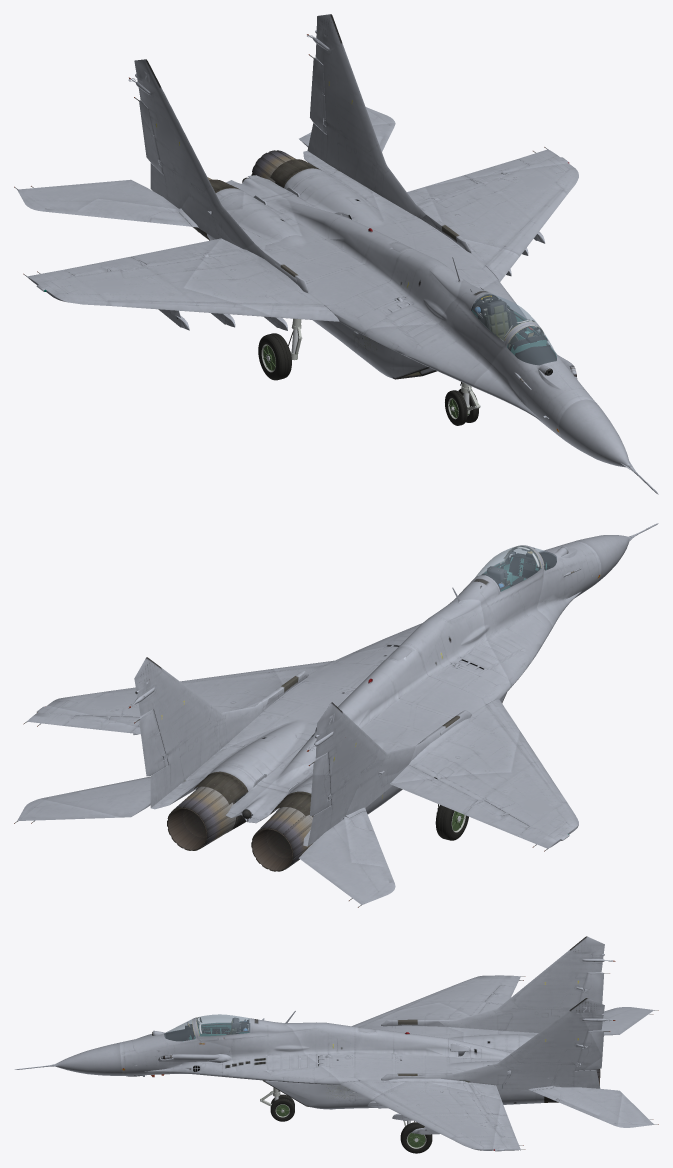
File: MiG-29SMT.fbx
3 renders of one model, top to bottom at view 1: azimuth 30°, elevation 25°; view 2: azimuth 150°, elevation 25°; view 3: azimuth 270°, elevation 25°, orthographic. The views are drawn at different scales.
Parts seen in each view (by area): view 1: MiG29_skin_tail_L, MiG29_skin_tail_R, MiG29_skin_fuselage_F, MiG29_skin_gearbay_R, MiG29_skin_cockpit, MiG29_skin_wing1_R, MiG29_stab_R, MiG29_skin_MiG29SMT, MiG29_skin_intake_R, MiG29_skin_wing1_L, MiG29_skin_gearbay_L, MiG29_skin_fuselage_R (+22 smaller); view 2: MiG29_skin_tail_L, MiG29_skin_tail_R, MiG29_skin_fuselage_F, MiG29_skin_MiG29SMT, MiG29_skin_gearbay_R, MiG29_stab_R, MiG29_skin_wing1_R, MiG29_skin_gearbay_L, MiG29_stab_L, MiG29_skin_fuselage_R, MiG29_skin_cockpit, MiG29_skin_wing1_L (+19 smaller); view 3: MiG29_skin_tail_L, MiG29_skin_tail_R, MiG29_skin_fuselage_F, MiG29_skin_gearbay_L, MiG29_skin_cockpit, MiG29_skin_MiG29SMT, MiG29_skin_intake_L, MiG29_skin_wing1_L, MiG29_stab_L, MiG29_skin_fuselage_R, MiG29_skin_wing1_R, MiG29_skin_wing2_L (+20 smaller).
Boxes of the visible parts, x1,y1,x2,y2 form: MiG29_skin_tail_L: [303, 14, 442, 219]; MiG29_skin_tail_R: [128, 59, 271, 258]; MiG29_skin_fuselage_F: [399, 257, 567, 404]; MiG29_skin_gearbay_R: [193, 242, 392, 378]; MiG29_skin_cockpit: [512, 351, 631, 467]; MiG29_skin_wing1_R: [96, 258, 309, 319]; MiG29_stab_R: [14, 179, 191, 226]; MiG29_skin_MiG29SMT: [334, 227, 449, 310]; MiG29_skin_intake_R: [358, 300, 485, 391]; MiG29_skin_wing1_L: [434, 171, 543, 270]; MiG29_skin_gearbay_L: [370, 196, 508, 289]; MiG29_skin_fuselage_R: [260, 190, 369, 257]; MiG29_skin_tail_L: [128, 657, 271, 809]; MiG29_skin_tail_R: [303, 702, 442, 846]; MiG29_skin_fuselage_F: [399, 545, 565, 662]; MiG29_skin_MiG29SMT: [334, 613, 475, 717]; MiG29_skin_gearbay_R: [370, 674, 508, 782]; MiG29_stab_R: [299, 811, 395, 907]; MiG29_skin_wing1_R: [433, 711, 542, 817]; MiG29_skin_gearbay_L: [255, 649, 384, 723]; MiG29_stab_L: [14, 776, 150, 823]; MiG29_skin_fuselage_R: [259, 688, 392, 781]; MiG29_skin_cockpit: [538, 535, 631, 607]; MiG29_skin_wing1_L: [96, 664, 308, 720]; MiG29_skin_tail_L: [449, 998, 615, 1104]; MiG29_skin_tail_R: [449, 936, 615, 1034]; MiG29_skin_fuselage_F: [176, 1011, 315, 1074]; MiG29_skin_gearbay_L: [309, 1059, 477, 1109]; MiG29_skin_cockpit: [56, 1029, 183, 1077]; MiG29_skin_MiG29SMT: [309, 1022, 416, 1061]; MiG29_skin_intake_L: [202, 1061, 337, 1109]; MiG29_skin_wing1_L: [355, 1083, 496, 1130]; MiG29_stab_L: [532, 1086, 658, 1127]; MiG29_skin_fuselage_R: [416, 1034, 523, 1062]; MiG29_skin_wing1_R: [358, 989, 497, 1023]; MiG29_skin_wing2_L: [411, 1098, 497, 1134].
Size of the model in its own units: 11.13 by 4.61 by 17.32.
10 materials, 7 textured.
